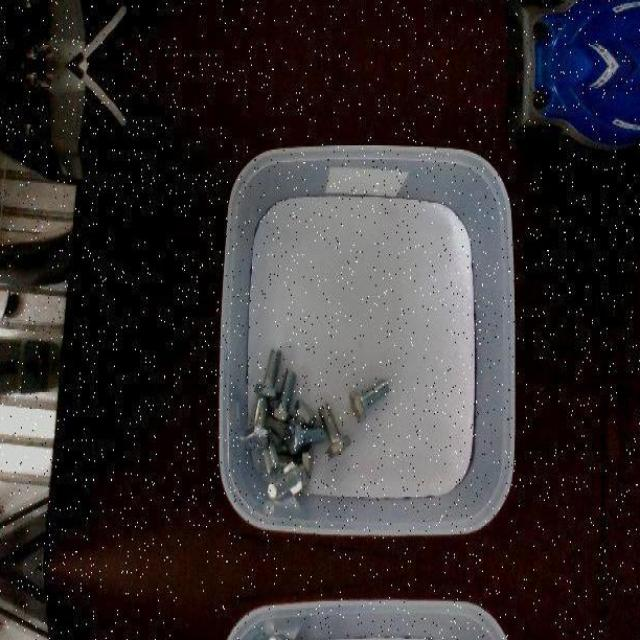screw: (348, 376, 389, 421), (318, 402, 350, 458), (267, 458, 306, 498), (254, 347, 281, 399), (286, 418, 326, 453), (245, 396, 270, 449), (270, 369, 295, 421), (267, 636, 306, 640)
